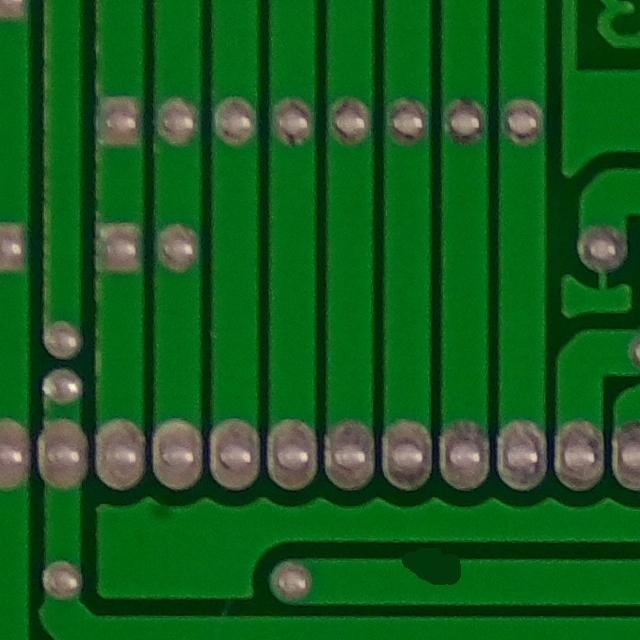mouse_bite: (394, 529, 475, 606)
